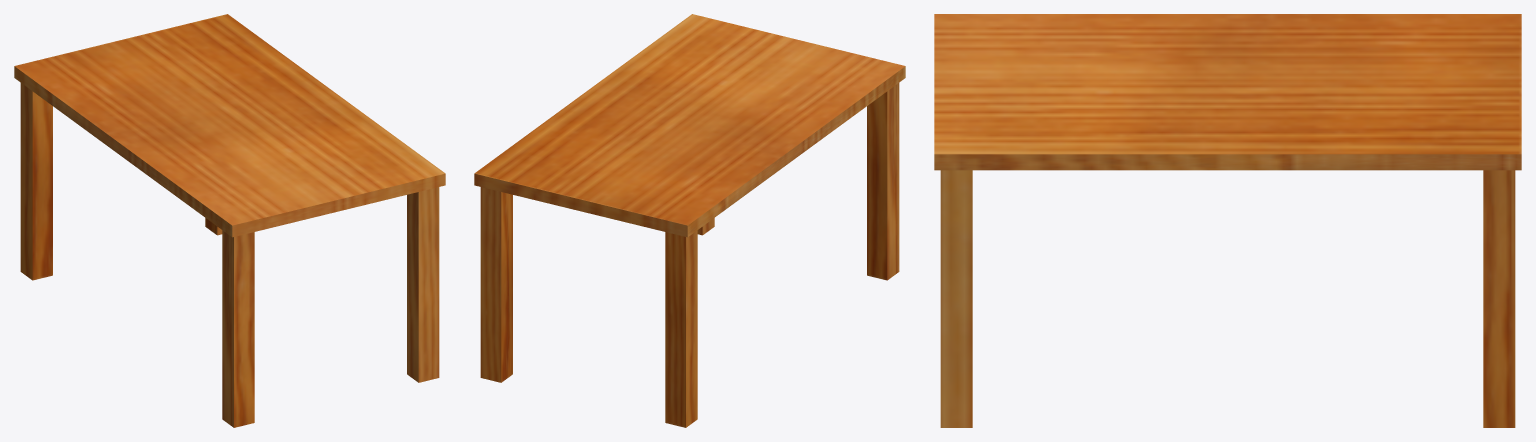
Rendered from table.fbx.
The picture shows the model from 3 angles, left to right: view 1: azimuth 30°, elevation 25°; view 2: azimuth 150°, elevation 25°; view 3: azimuth 270°, elevation 25°; orthographic projection. The views are drawn at different scales.
Parts seen in each view (by area): view 1: Cube; view 2: Cube; view 3: Cube.
Part boxes in pixels (left/top/right/bottom): Cube: left=14, top=14, right=445, bottom=427; Cube: left=474, top=14, right=905, bottom=427; Cube: left=934, top=14, right=1521, bottom=427.
Bounding box in the file's own units: 1040 × 955 × 1840.
